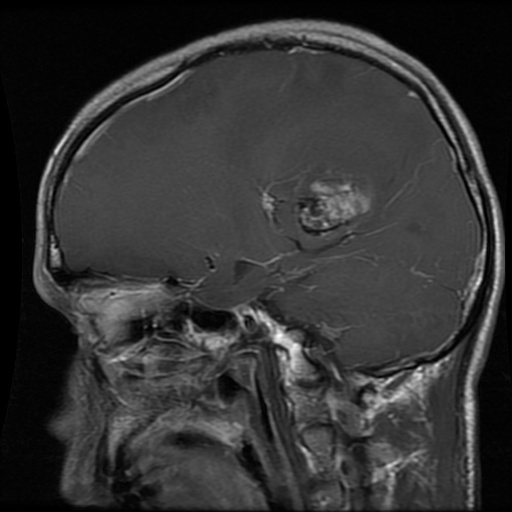glioma: (290, 169, 377, 237)
